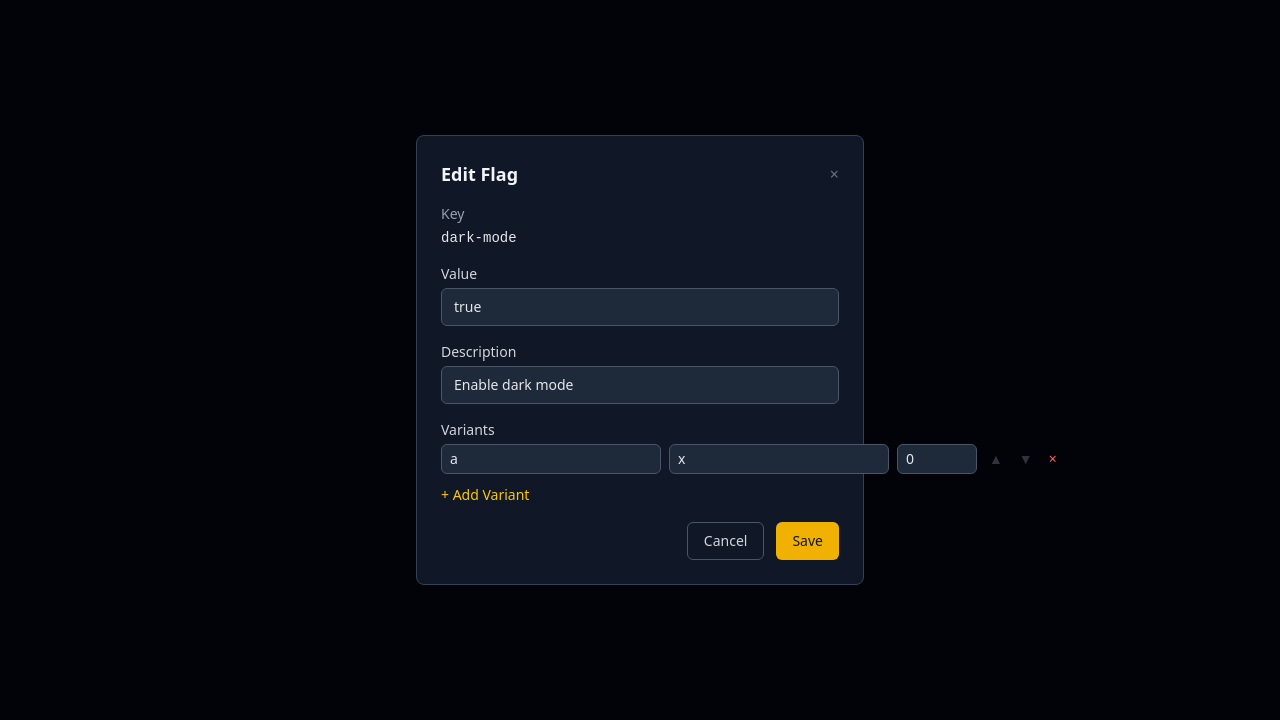
Test: EditFlagModal › shows variant validation error for zero weight
Click the button "Save".
click(808, 541)  # box x1=776 y1=522 x2=839 y2=560
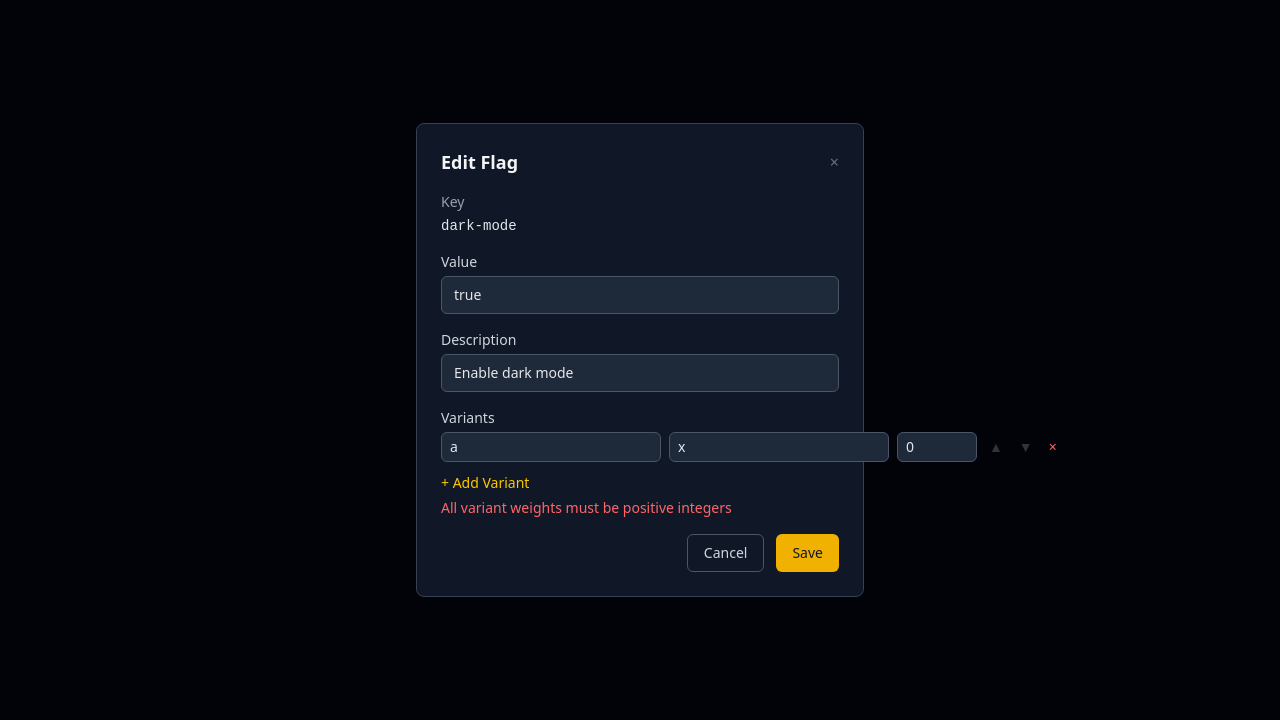
expect the text "All variant weights must be positive integers" is shown: met, box x1=441 y1=498 x2=732 y2=517
